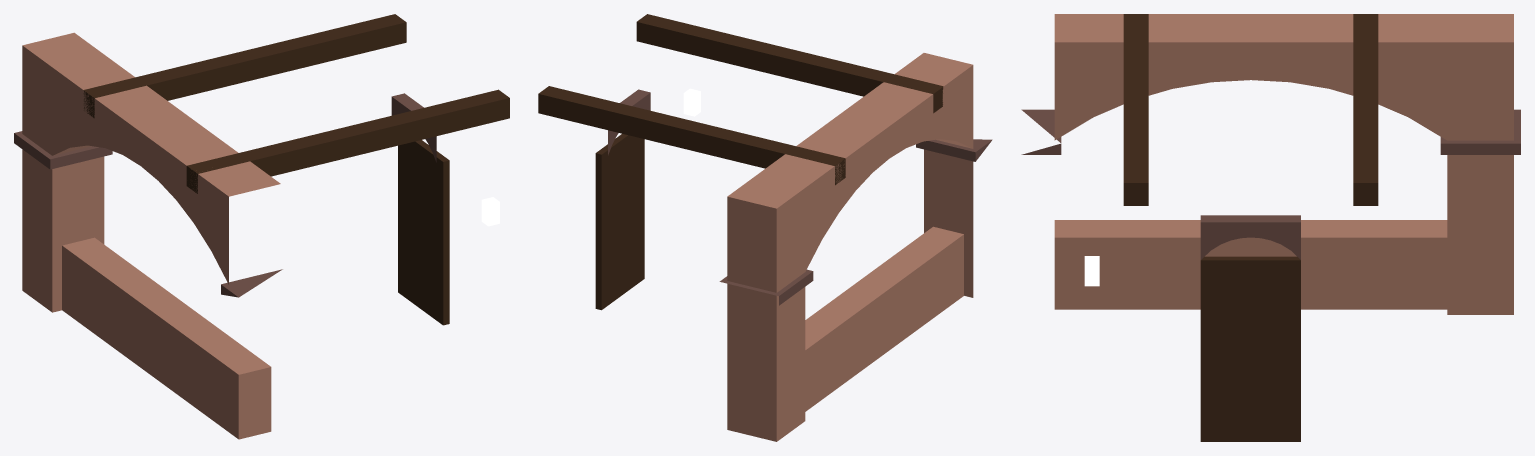
Rendered from ato2_modulo_arcada.glb.
3 renders of one model, left to right at view 1: azimuth 30°, elevation 25°; view 2: azimuth 150°, elevation 25°; view 3: azimuth 270°, elevation 25°, orthographic. The views are drawn at different scales.
Visible parts, largest first — view 1: Malha_0; view 2: Malha_0; view 3: Malha_0.
Boxes of the visible parts, x1,y1,x2,y2 form: Malha_0: (14, 14, 509, 439); Malha_0: (538, 14, 992, 441); Malha_0: (1021, 14, 1520, 441).
Bounding box in the file's own units: 4.87 × 3.6 × 5.98.
